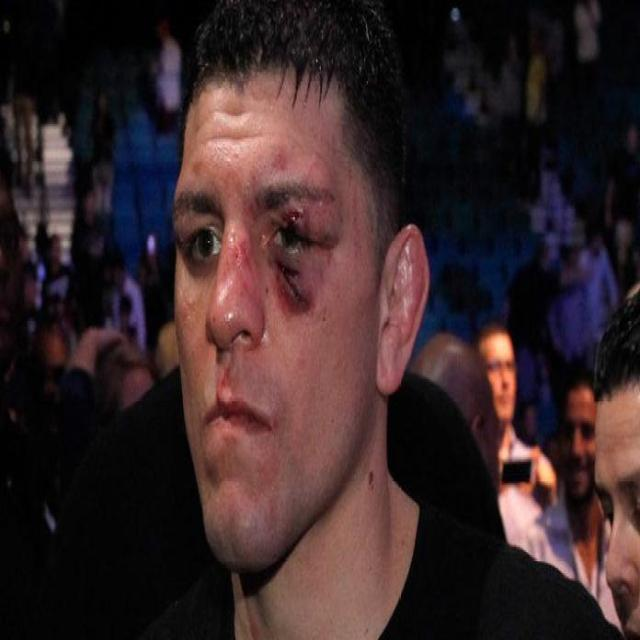flood: (252, 131, 342, 324)
